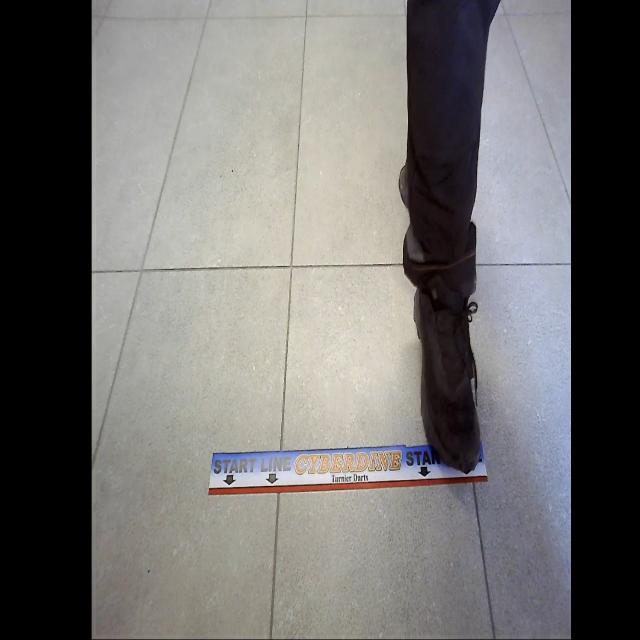foot: (410, 260, 483, 477)
